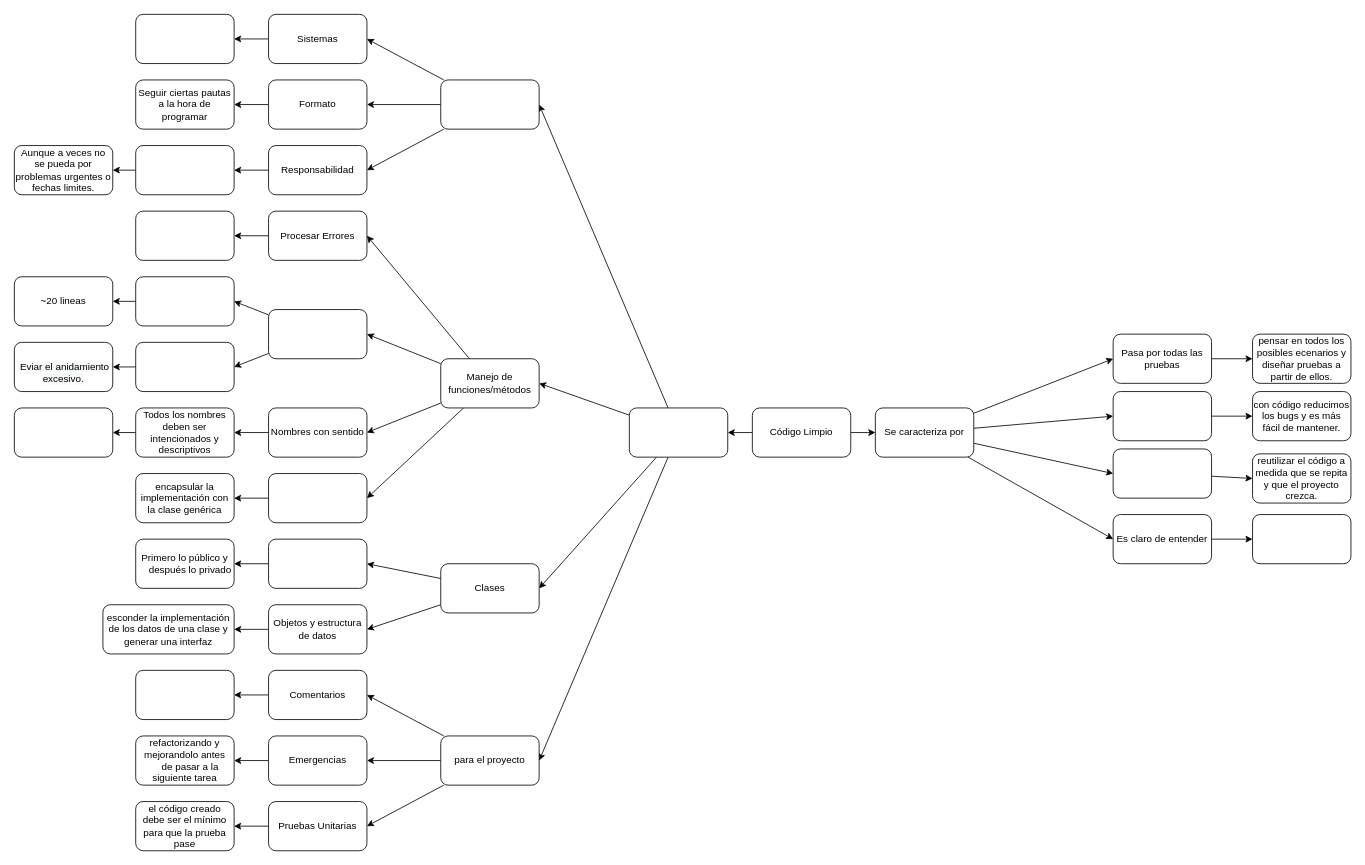
This 1365x865 diagram has some shape labels left out. The shapes that lost their labels are listed below. From the top down, each one's centre as x and y in pixels, then its label:
the point at 184,39: Separar responsabilidades
the point at 489,104: Código
the point at 184,170: Tratar de hacer siempre un codigo limpio.
the point at 184,235: devolver una excepcion que nos indique que sucedio en el error
the point at 184,301: Deben ser reducidos y con nombres descriptivos.
the point at 317,334: Funciones
the point at 184,367: Deben hacer una sola cosa.
the point at 63,432: utilizando verbos y procurando que sean cortos pero explicitos y claros
the point at 678,432: Buenas practicas
the point at 1162,416: Es breve en código y clases
the point at 1162,473: No contiene duplicados
the point at 317,498: Limites
the point at 1301,539: código claro y legible para nosotros o otros programadores.
the point at 317,563: Orden dentro de la clase
the point at 184,695: cuando nuestro código no es tan exprecivo con su funcionamiento
